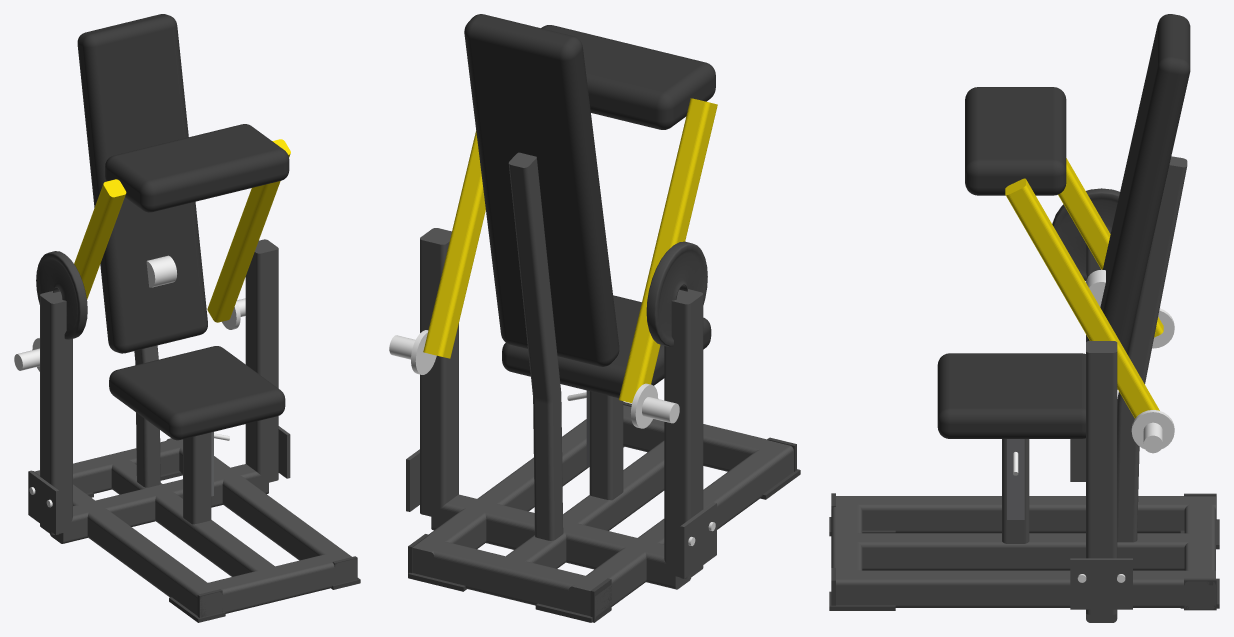
3 views of the same model, side by side, from view 1: azimuth 30°, elevation 25°; view 2: azimuth 150°, elevation 25°; view 3: azimuth 270°, elevation 25° (orthographic). The views are drawn at different scales.
Parts seen in each view (by area): view 1: backrest_pad, base, lever_support, seat_pad, lever_pad, lever_bar (×2), lever_cam, seat_post, gusset (×2), backrest_support_tube, lever_tail, lever_hub (+1 smaller); view 2: backrest_pad, base, lever_support, backrest_support_tube, lever_pad, lever_bar (×2), lever_tail (×2), seat_pad, lever_cam, seat_post, gusset (×2), lever_horn (×2); view 3: base, backrest_pad, seat_pad, lever_pad, lever_support, backrest_support_tube, lever_bar (×2), gusset (×2), lever_cam, lever_tail, seat_post, lever_horn (+1 smaller).
Part boxes in pixels (x1,y1,x2,y2): backrest_pad: (77,14,207,353); base: (34,438,356,617); lever_support: (40,239,278,543); seat_pad: (109,346,285,440); lever_pad: (105,124,289,212); lever_bar (×2): (74,139,290,297); lever_cam: (36,251,87,339); seat_post: (183,432,211,524); gusset (×2): (28,426,290,534); backrest_support_tube: (134,345,160,487); lever_tail: (207,247,252,322); lever_hub: (146,255,176,287); backrest_pad: (464,14,619,366); base: (412,405,793,618); lever_support: (420,228,703,589); backrest_support_tube: (508,152,563,540); lever_pad: (541,25,715,129); lever_bar (×2): (450,98,717,287); lever_tail (×2): (423,239,660,402); seat_pad: (502,295,711,398); lever_cam: (646,241,707,346); seat_post: (589,391,623,500); gusset (×2): (406,449,716,578); lever_horn (×2): (389,330,679,428); base: (831,496,1215,609); backrest_pad: (1087,14,1190,389); seat_pad: (937,353,1085,438); lever_pad: (965,87,1066,195); lever_support: (1086,243,1117,622); backrest_support_tube: (1117,156,1187,542); lever_bar (×2): (1005,158,1111,340); gusset (×2): (1070,438,1132,609); lever_cam: (1052,188,1119,280); lever_tail: (1100,328,1159,418); seat_post: (1002,439,1029,543); lever_horn: (1131,410,1174,453).
Size of the model in its own units: 0.8 by 1.5 by 1.
